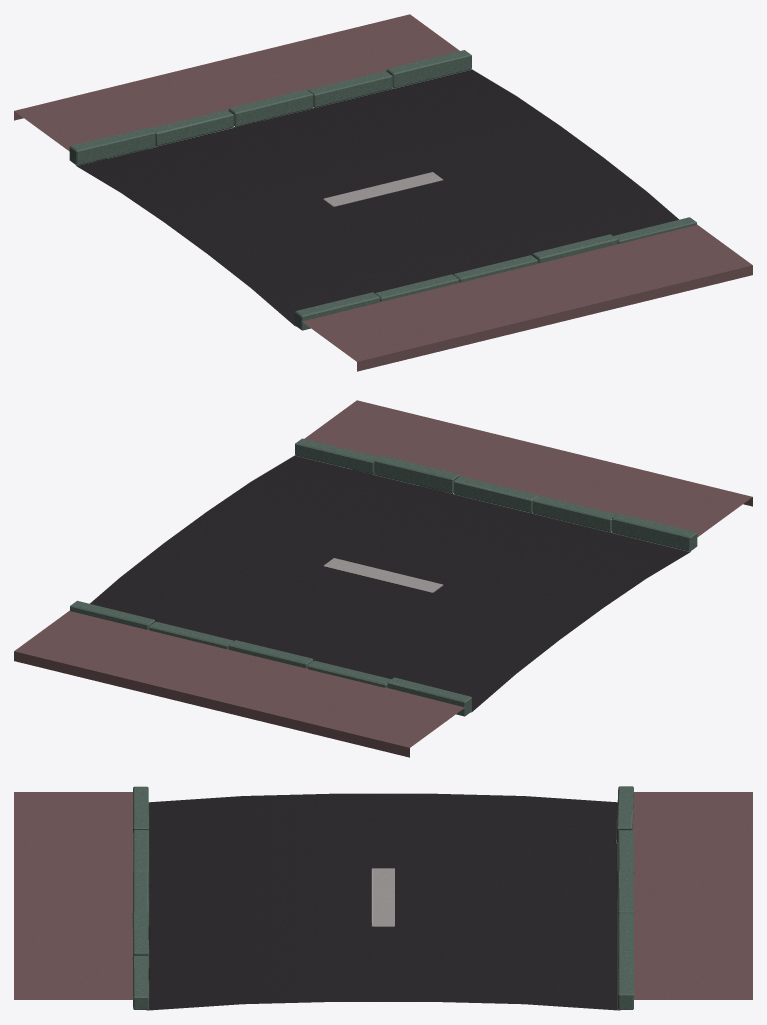
File: road1_LOD0.fbx
The picture shows the model from 3 angles, top to bottom: view 1: azimuth 30°, elevation 25°; view 2: azimuth 150°, elevation 25°; view 3: azimuth 270°, elevation 25°; orthographic projection. The views are drawn at different scales.
Visible parts, largest first — view 1: road1_LOD0; view 2: road1_LOD0; view 3: road1_LOD0.
Part boxes in pixels (box(x1,y1,x2,y2)): road1_LOD0: box(14, 14, 752, 371); road1_LOD0: box(14, 400, 752, 757); road1_LOD0: box(14, 786, 752, 1010).
Bounding box in the file's own units: 800 × 29.81 × 1200.
